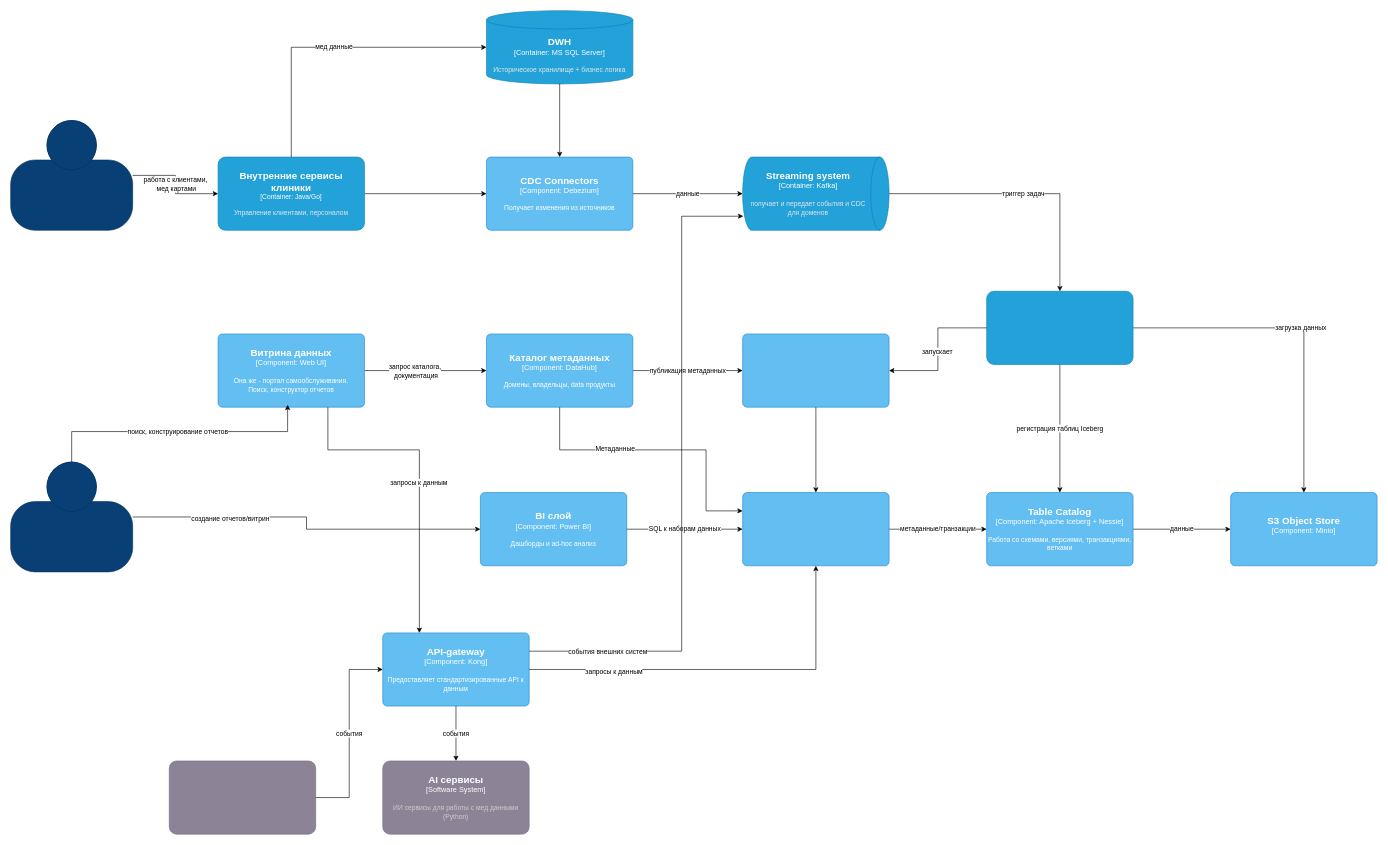
Some shapes in this 1388 by 845 pixel diagram are drawn without their labels. The shapes that lost their labels are listed below. From the top down, each one's centre as x and y in pixels, then its label:
(71,175): Оператор [Person]
(1059,327): Оркестратор [Container: Airflow] Пайплайны загрузки и трансформаций
(815,370): Трансформации [Component: dbt]
(71,516): Бизнес пользователь [Person]
(815,529): Работа с SQL над даными [Component: Dremio/Trino] SQL доступ к Iceberg
(242,797): Финтех сервисы [Software System] Java/Go
